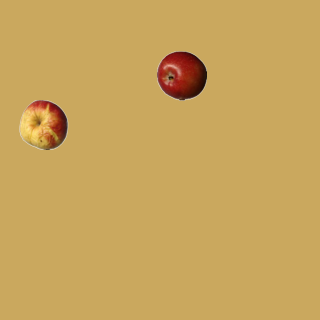Apple Braeburn: (156, 50, 206, 100)
Apple Red Yellow 1: (18, 99, 68, 149)
